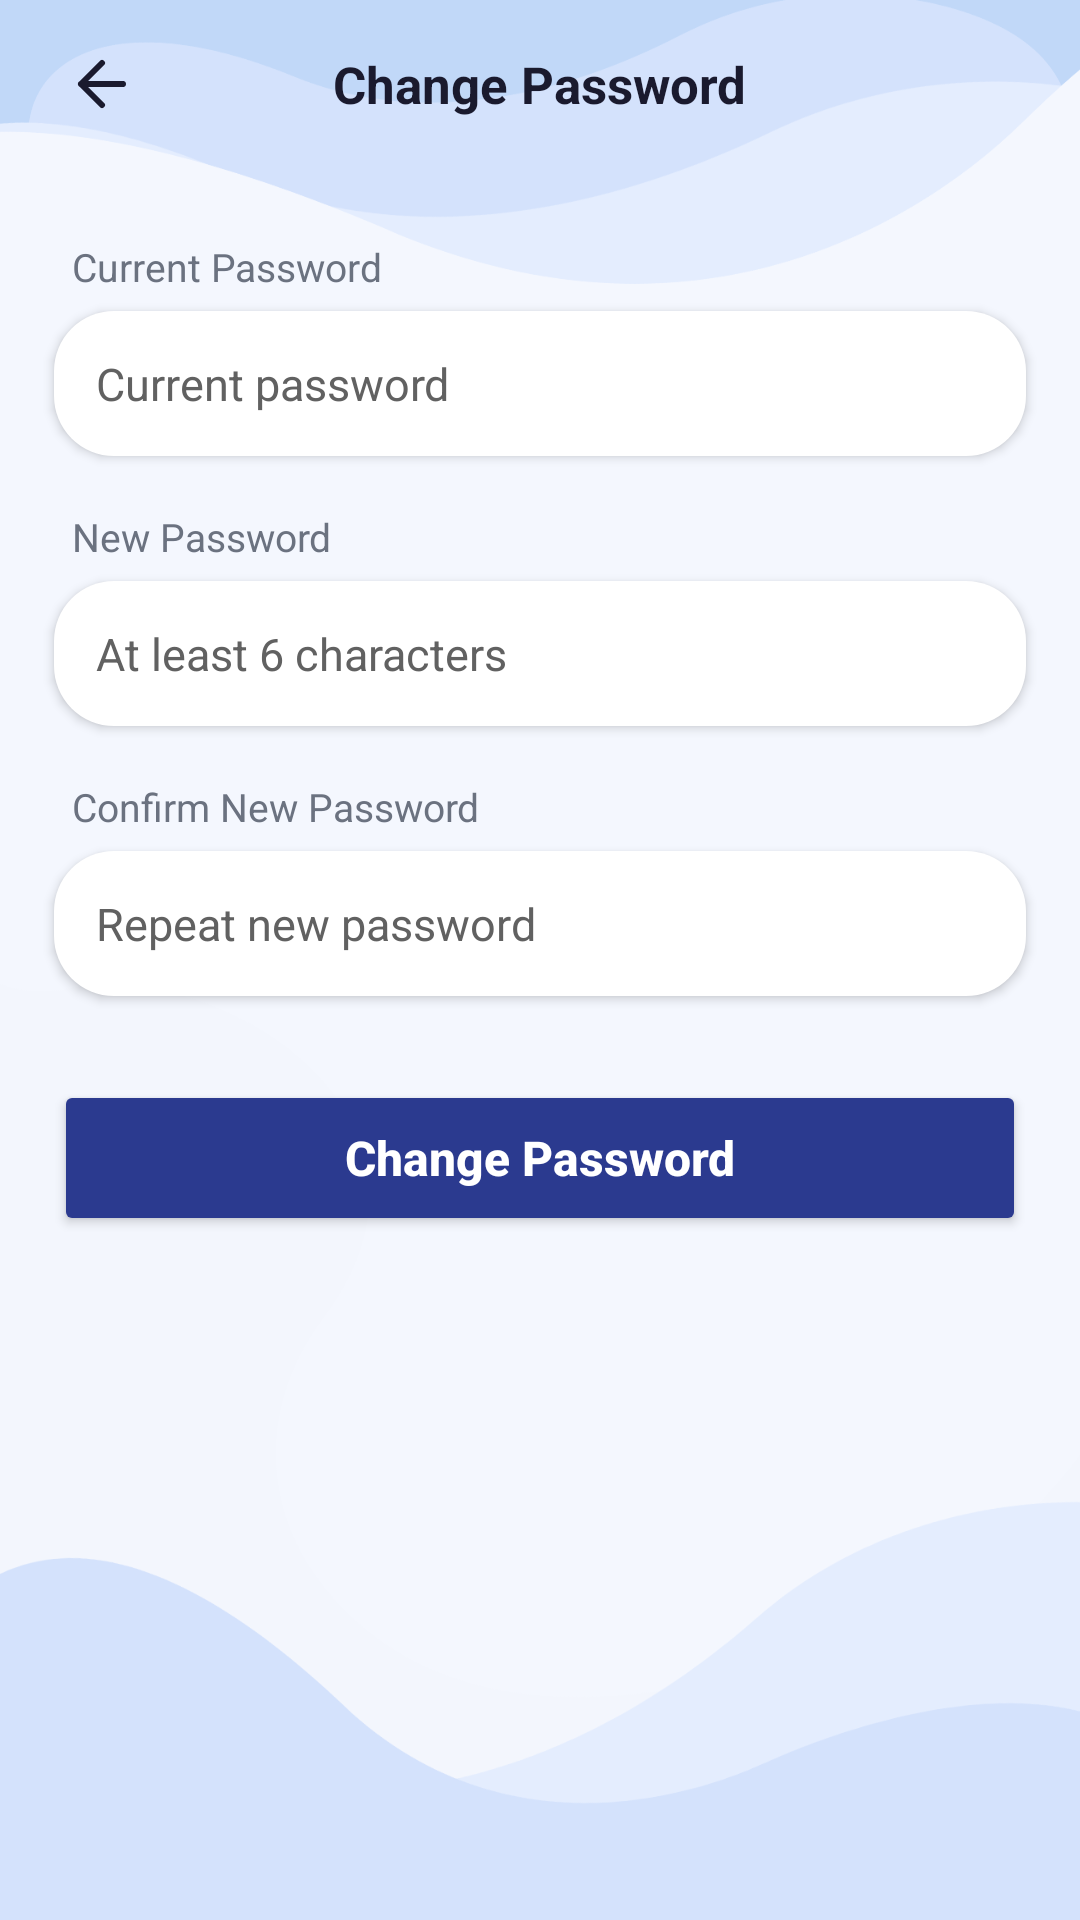

Where to tap for icons on this 1080 x 1920 app screen, as (x,y):
Back: (102,99)
